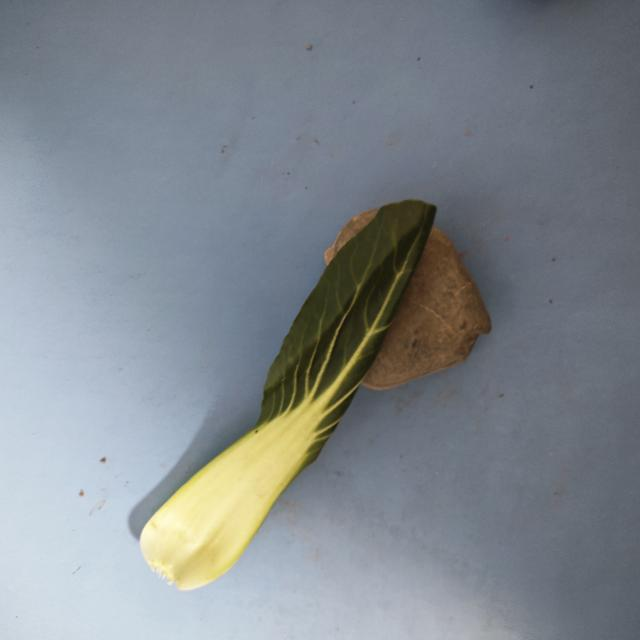-Kitchen waste - vegetable roots and leaves-: (144, 207, 429, 588)
-Other waste - pebble-: (326, 198, 489, 386)
